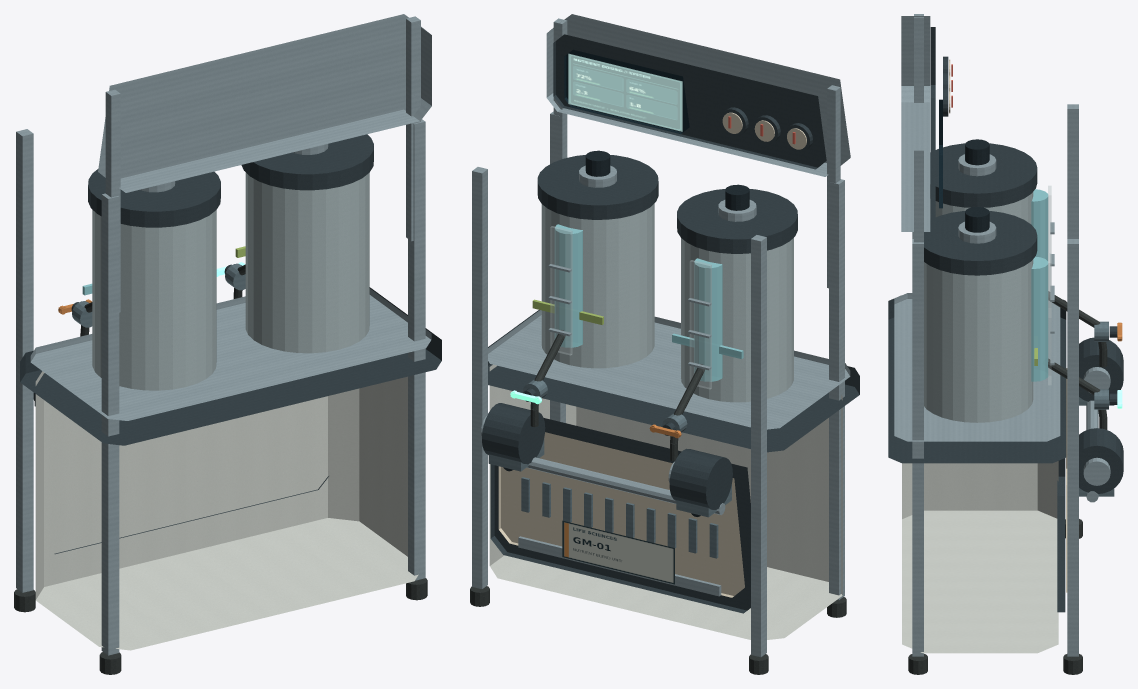
The model's file is nutrient_mixer.glb.
3 views of the same model, side by side, from view 1: azimuth 30°, elevation 25°; view 2: azimuth 150°, elevation 25°; view 3: azimuth 270°, elevation 25° (orthographic). The views are drawn at different scales.
Visible parts, largest first — view 1: static__alloy, static__shell, Tank_B__tank, Tank_A__tank, static__graphite, Tank_A__graphite, Tank_B__graphite, static__rubber, Dosing_Valves__trim; view 2: static__alloy, static__graphite, static__shell, static__cream, Tank_B__tank, Tank_A__tank, Pump_Assembly__graphite, Mixer_Display__mixer_ui, Tank_B__graphite, Tank_A__graphite, static__label_GM-01, Tank_A__fluid (+15 smaller); view 3: static__shell, static__alloy, Tank_B__tank, static__graphite, Tank_B__graphite, Tank_A__graphite, Pump_Assembly__graphite, Tank_B__fluid, Pump_Assembly__alloy, Hose_Connections__rubber, Tank_A__fluid, Tank_A__tank (+12 smaller).
Part boxes in pixels (x1,y1,x2,y2): static__alloy: (16, 14, 431, 655); static__shell: (35, 371, 418, 650); Tank_B__tank: (245, 172, 369, 353); Tank_A__tank: (92, 210, 216, 390); static__graphite: (20, 287, 441, 554); Tank_A__graphite: (88, 169, 220, 227); Tank_B__graphite: (241, 134, 373, 190); static__rubber: (14, 578, 427, 674); Dosing_Valves__trim: (72, 263, 245, 327); static__alloy: (472, 14, 850, 657); static__graphite: (488, 34, 859, 613); static__shell: (489, 364, 842, 639); static__cream: (498, 432, 744, 597); Tank_B__tank: (541, 203, 654, 368); Tank_A__tank: (681, 238, 793, 402); Pump_Assembly__graphite: (482, 403, 732, 509); Mixer_Display__mixer_ui: (568, 53, 682, 131); Tank_B__graphite: (537, 155, 658, 219); Tank_A__graphite: (677, 189, 797, 253); static__label_GM-01: (562, 520, 674, 584); Tank_A__fluid: (672, 258, 743, 381); static__shell: (902, 461, 1058, 653); static__alloy: (894, 14, 1078, 656); Tank_B__tank: (924, 259, 1033, 422); static__graphite: (888, 27, 1066, 612); Tank_B__graphite: (924, 211, 1037, 275); Tank_A__graphite: (930, 143, 1037, 207); Pump_Assembly__graphite: (1079, 337, 1123, 493); Tank_B__fluid: (1031, 256, 1048, 381); Pump_Assembly__alloy: (1083, 367, 1110, 485); Hose_Connections__rubber: (1048, 291, 1107, 429); Tank_A__fluid: (1031, 189, 1048, 260); Tank_A__tank: (930, 192, 1033, 223).
Bounding box in the file's own units: 1.15 × 1.88 × 0.767.
Materials: 17 (15 with a texture image).
